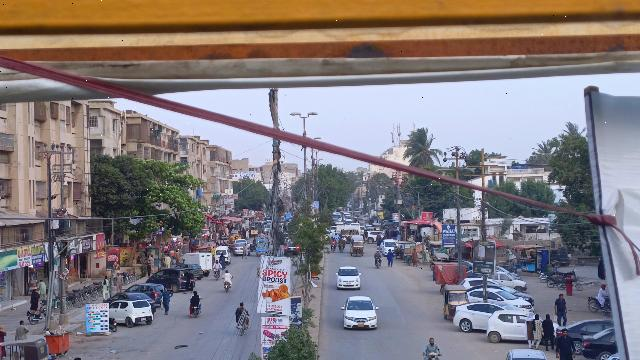Bike: (586, 295, 609, 313), (237, 318, 248, 338), (190, 305, 201, 320), (223, 280, 231, 295), (372, 258, 382, 268)
Car: (454, 298, 503, 335), (339, 294, 381, 332), (485, 308, 526, 343), (107, 300, 153, 327), (335, 263, 361, 291)
Person: (554, 327, 577, 360), (553, 291, 570, 324), (541, 312, 555, 351), (524, 311, 535, 351), (160, 287, 173, 317), (424, 333, 441, 355), (13, 318, 30, 340), (233, 299, 250, 321), (181, 267, 195, 292), (596, 280, 608, 306), (533, 313, 541, 350), (190, 287, 201, 308), (384, 248, 395, 267), (222, 268, 232, 282), (374, 248, 381, 258)
Rickshaw: (440, 282, 467, 322)
Truck: (181, 252, 213, 277)
